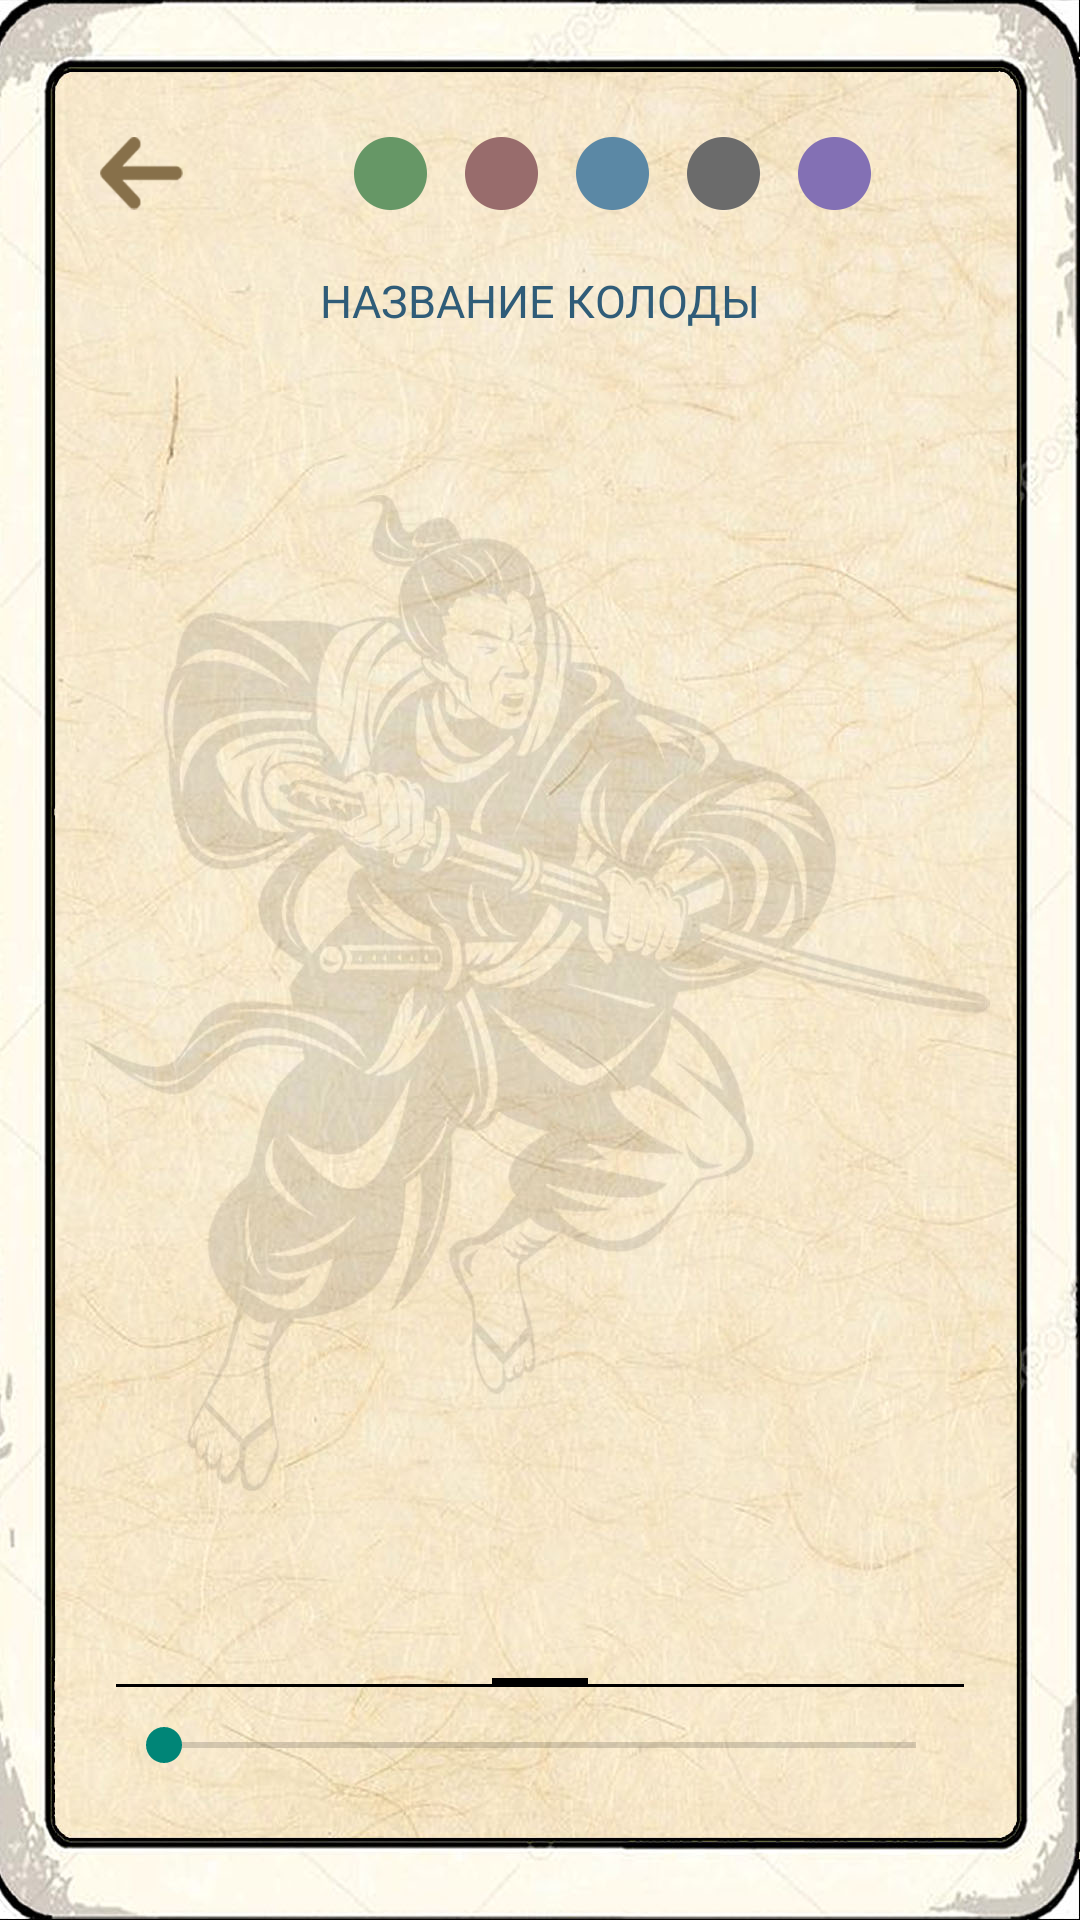

Icon click points for this 1080px×1920px phone screenshot, format [x,y]:
arrow back: [141,173]
